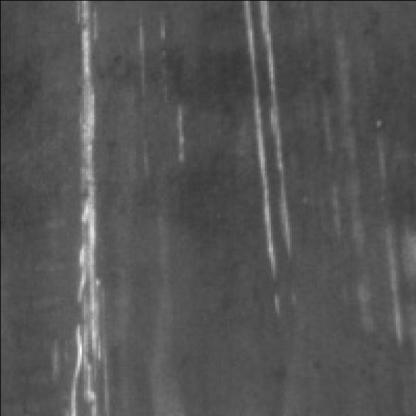scratches: (56, 4, 108, 416), (235, 2, 291, 318)
